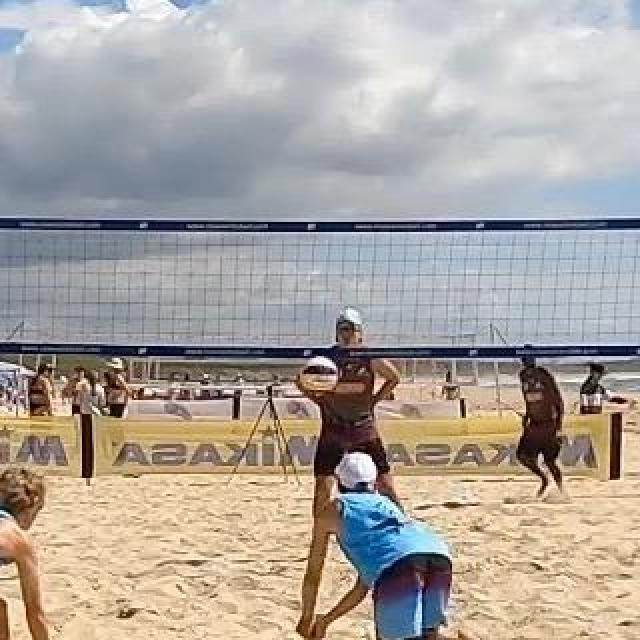volleyball: (300, 356, 340, 396)
